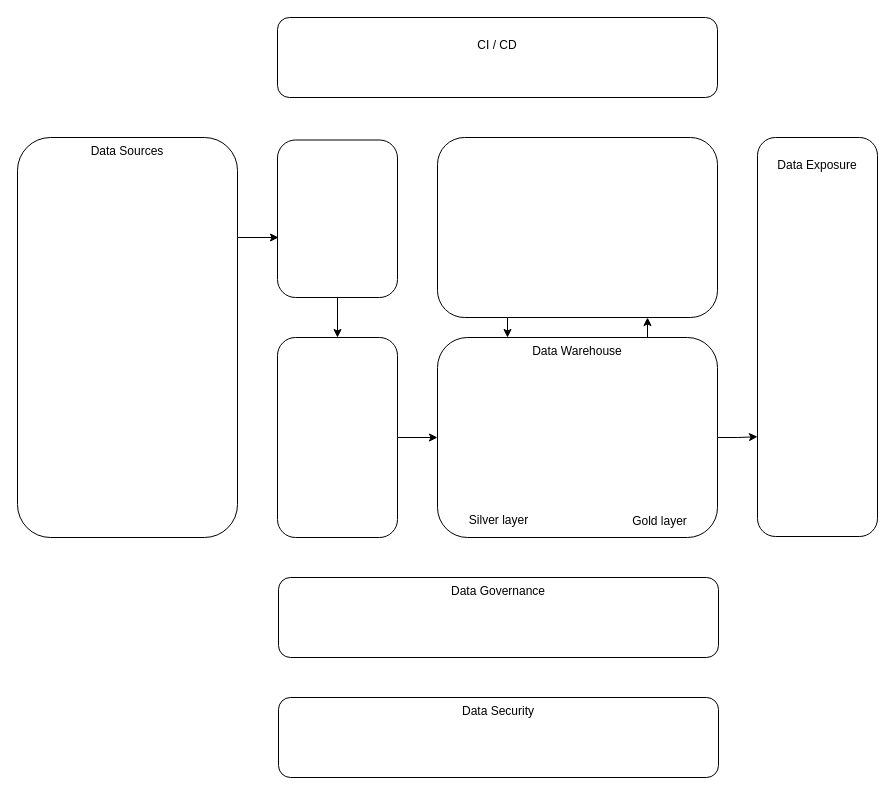
This 895x795 diagram has some shape labels left out. Here are the shapes that lost their labels. From the top down, the centre of each, then its label:
point 337,218: Data Ingestion
point 577,227: Data Manipulation & Orchestration
point 337,437: Data Landing
